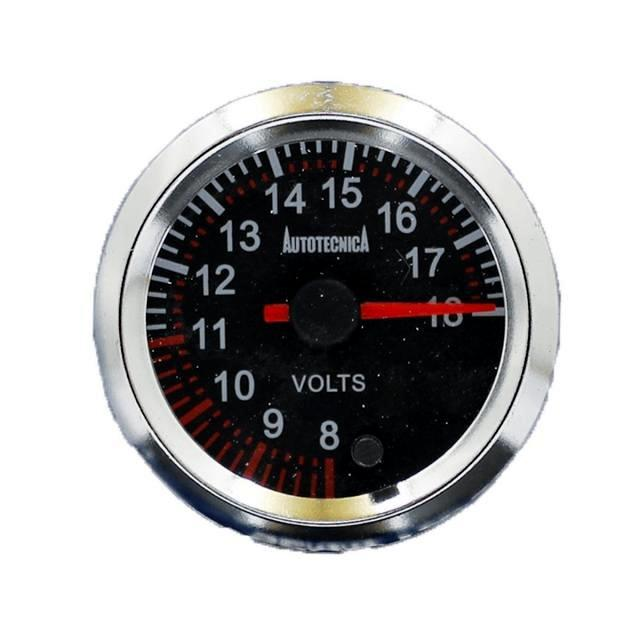Needle_Tip: (453, 290, 517, 327)
Needle_base: (268, 266, 381, 363)
max_value: (422, 286, 481, 342)
min_value: (302, 398, 359, 471)
